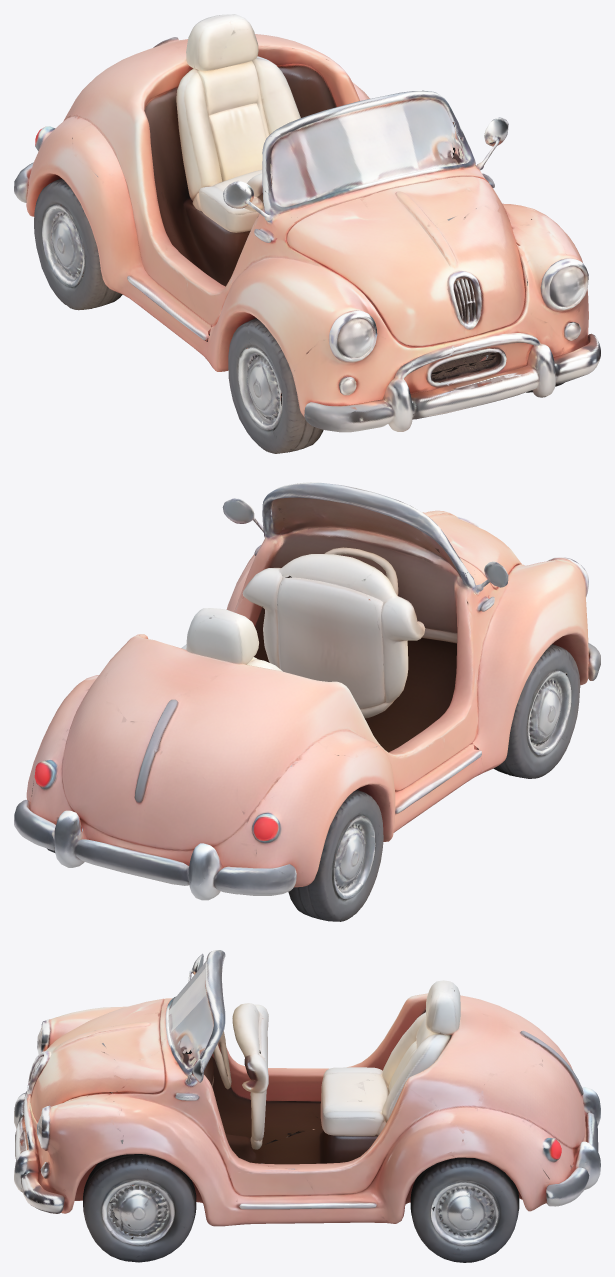
Rendered from mochi-desktop.glb.
3 renders of one model, top to bottom at view 1: azimuth 30°, elevation 25°; view 2: azimuth 150°, elevation 25°; view 3: azimuth 270°, elevation 25°, orthographic. The views are drawn at different scales.
Parts seen in each view (by area): view 1: model; view 2: model; view 3: model.
Boxes of the visible parts, left/top/right/bottom form: model: left=14, top=14, right=600, bottom=453; model: left=14, top=482, right=600, bottom=921; model: left=14, top=950, right=600, bottom=1262.
Size of the model in its own units: 0.9441 by 0.8406 by 1.9.
1 material, 1 textured.
